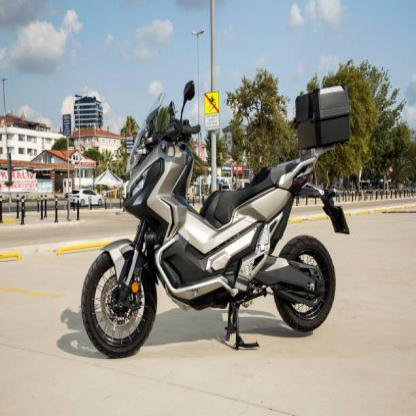Motorcycle: (82, 67, 352, 365)
